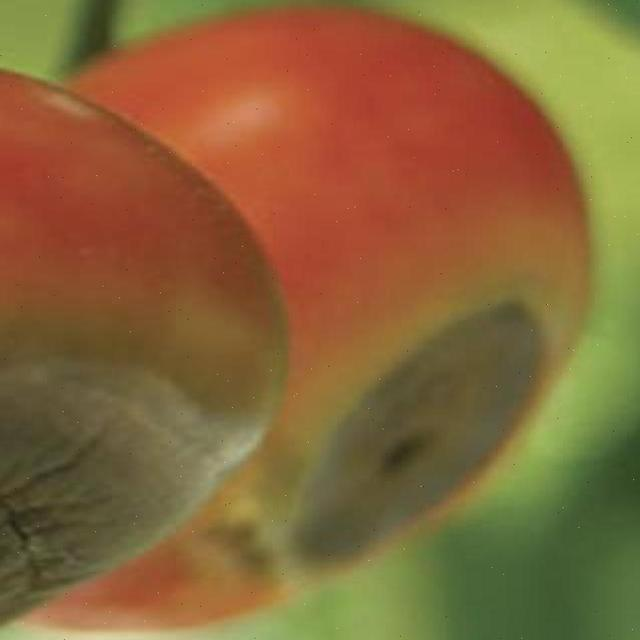Blossom End Rot Fruit: (82, 200, 280, 315)
